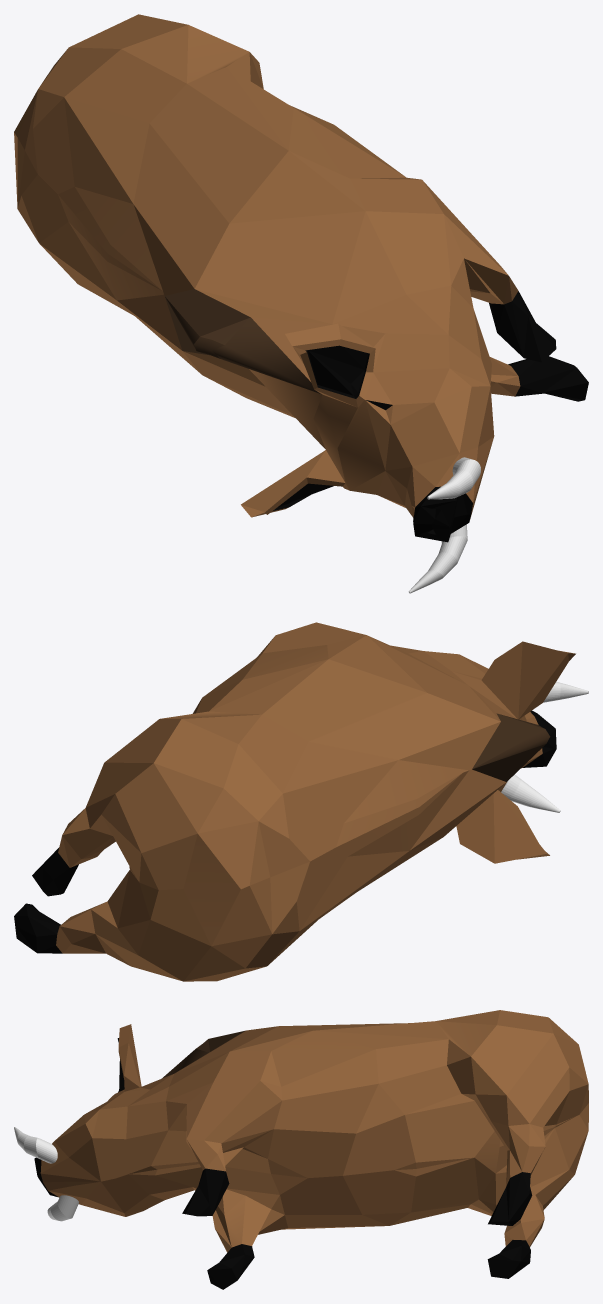
The model's file is Dead_Boar2.fbx.
The picture shows the model from 3 angles, top to bottom: view 1: azimuth 30°, elevation 25°; view 2: azimuth 150°, elevation 25°; view 3: azimuth 270°, elevation 25°; orthographic projection. The views are drawn at different scales.
Parts seen in each view (by area): view 1: Pig; view 2: Pig; view 3: Pig.
Boxes of the visible parts, x1,y1,x2,y2 form: Pig: (14, 14, 588, 593); Pig: (14, 622, 588, 981); Pig: (14, 1010, 588, 1289).
Size of the model in its own units: 344 by 259 by 614.
